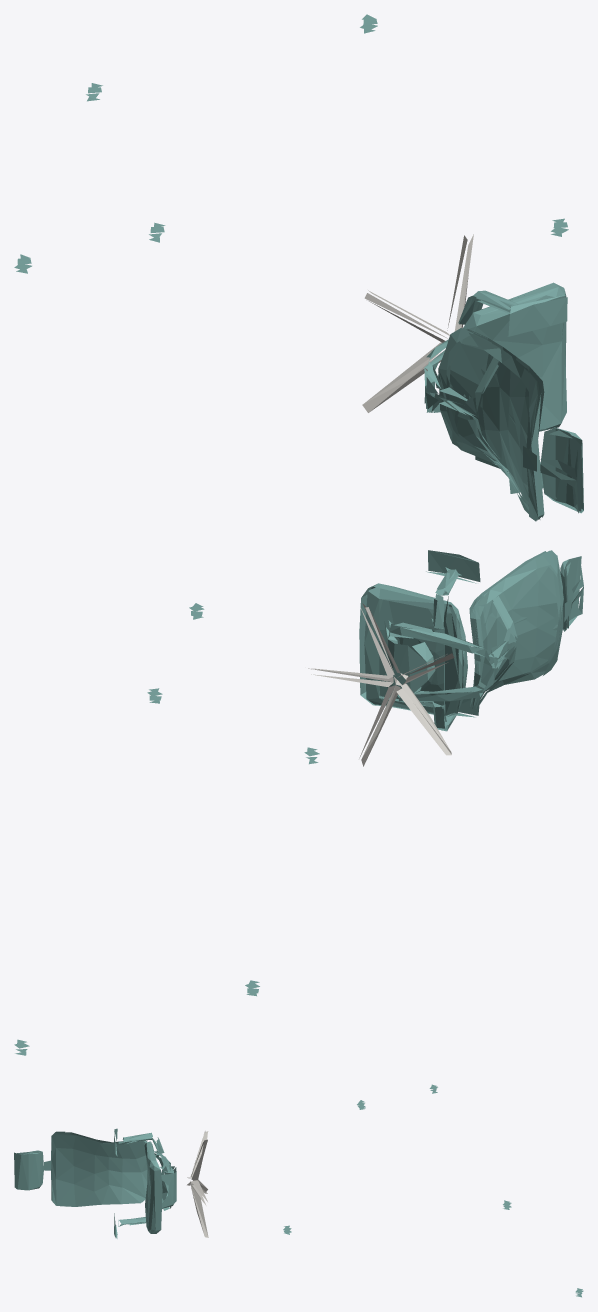
Rendered from chair_03_articulate_anything_closed.glb.
3 renders of one model, top to bottom at view 1: azimuth 30°, elevation 25°; view 2: azimuth 150°, elevation 25°; view 3: azimuth 270°, elevation 25°, orthographic. The views are drawn at different scales.
Visible parts, largest first — view 1: p0; view 2: p0; view 3: p0.
Part boxes in pixels (bbox=[...]): p0: bbox=[14, 14, 583, 521]; p0: bbox=[14, 550, 583, 1055]; p0: bbox=[14, 1084, 583, 1297].
Size of the model in its own units: 1.7 by 1.78 by 4.71.
